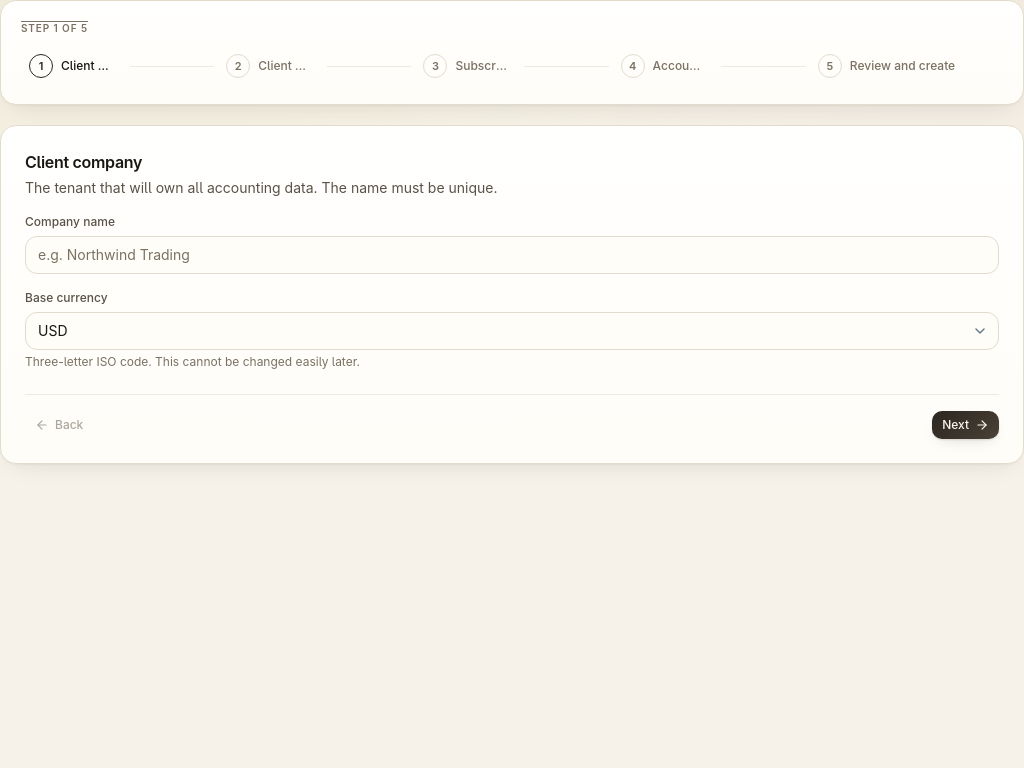
Test: client onboarding wizard › offers the three chart choices side by side
The width and height of the screenshot is (1024, 768).
Type "Northwind Trading" into the field labelled "Company name" at (512, 255), box [25,236,999,274]
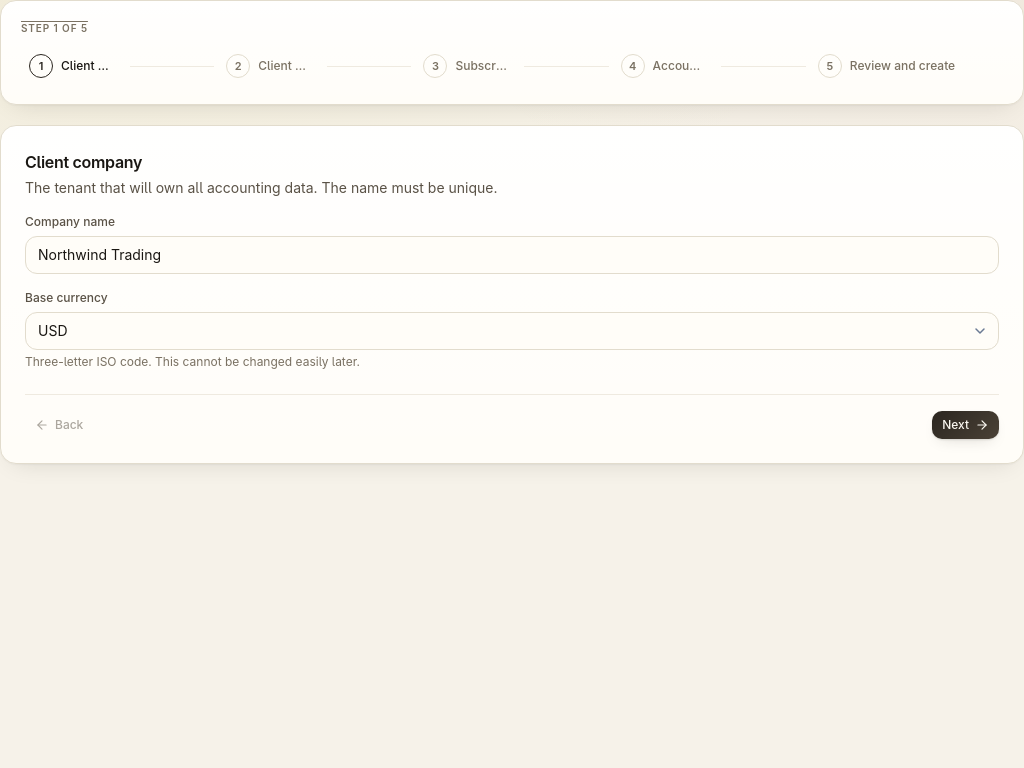
Click the button "Next" at (966, 425), box [932,411,999,439]
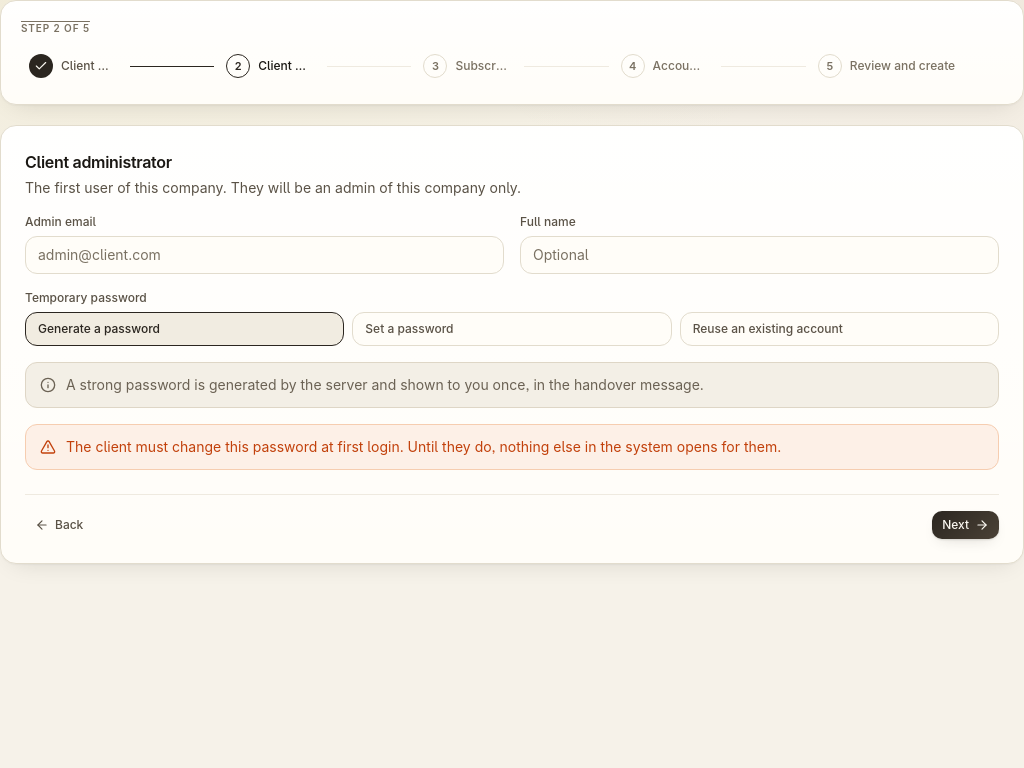
Type "admin@northwind.test" into the field labelled "Admin email" at (264, 255), box [25,236,504,274]
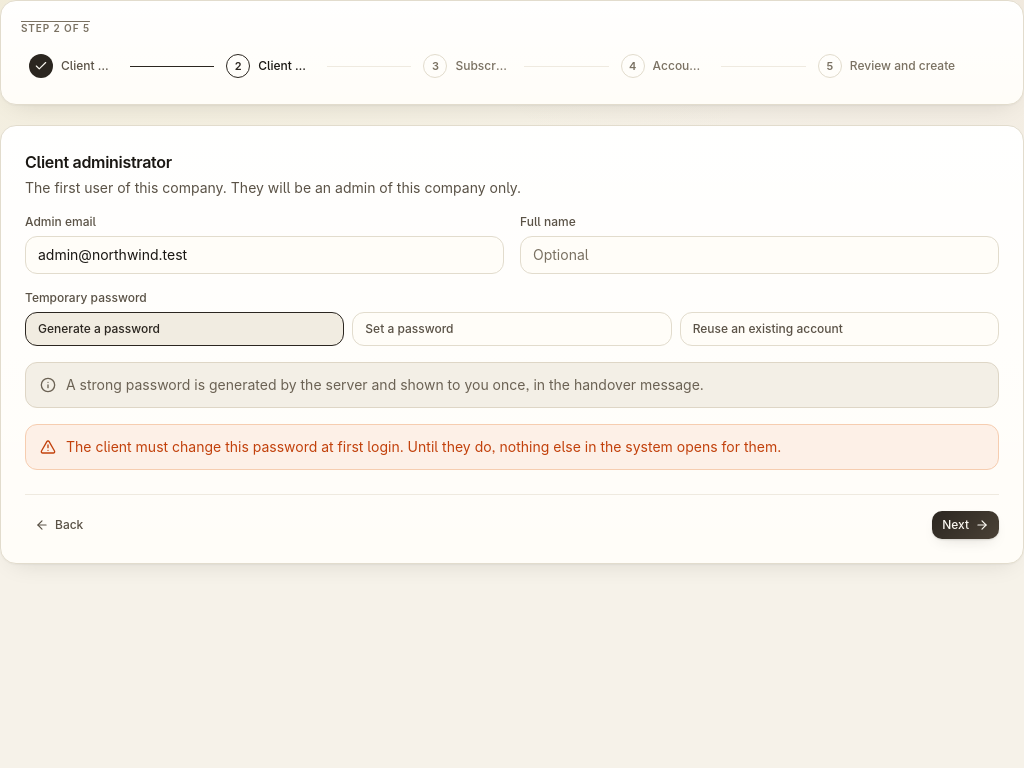
Click the button "Next" at (966, 525), box [932,511,999,539]
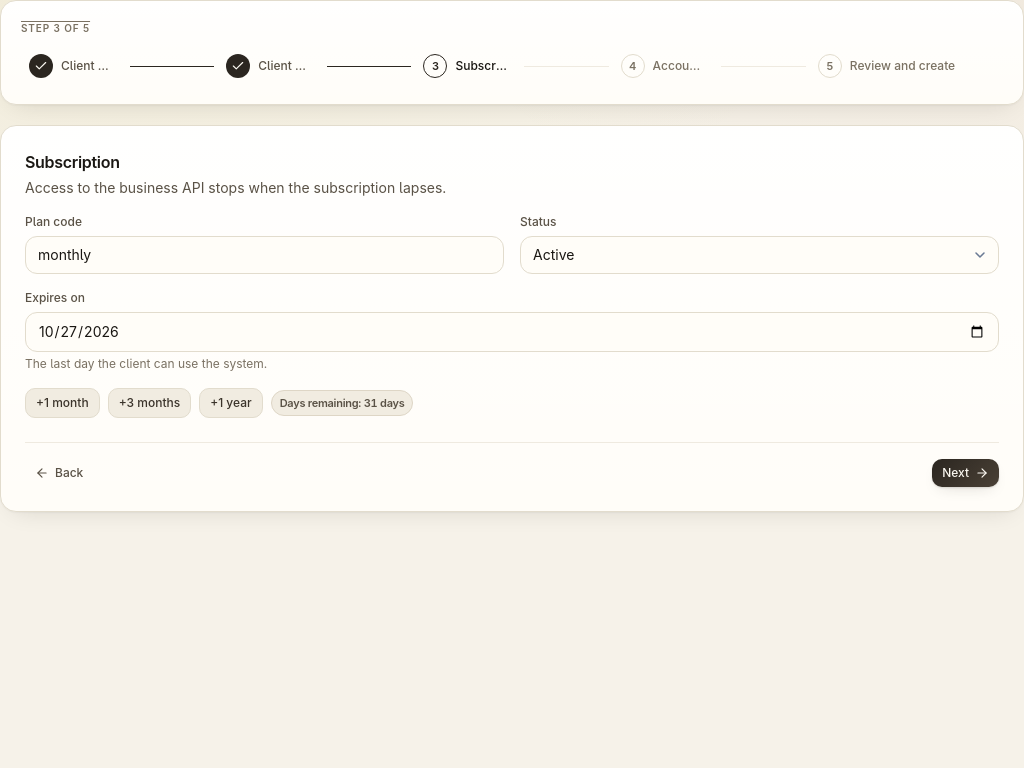
Click the button "Next" at (966, 473), box [932,459,999,487]
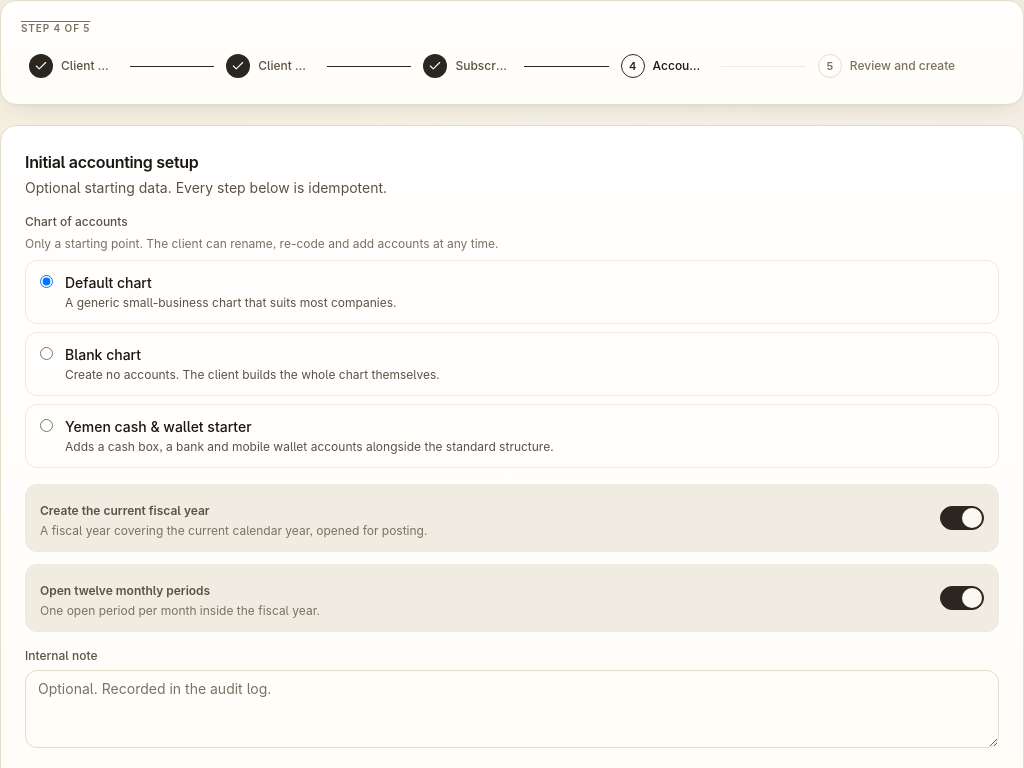
Expected: the radio button labelled "Default chart" is checked, [40,275,53,288]
Expected: the radio button labelled "Blank chart" is not checked, [40,347,53,360]
Expected: the radio button labelled "Yemen cash & wallet starter" is not checked, [40,419,53,432]
